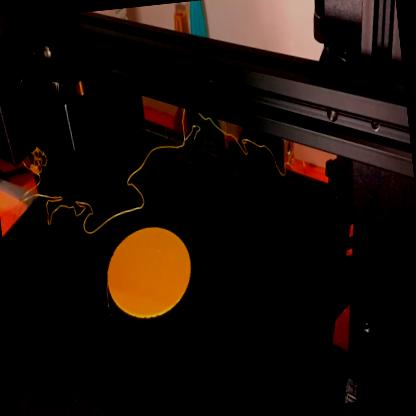fail: (25, 133, 192, 239)
